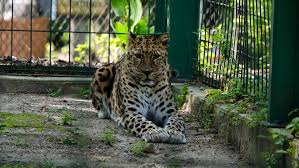amur_leopard: (88, 27, 200, 143)
